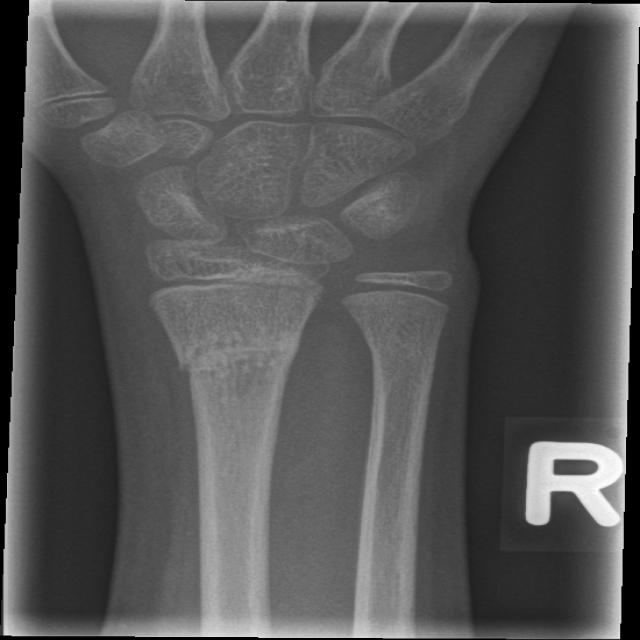radius fracture: (138, 323, 330, 487)
